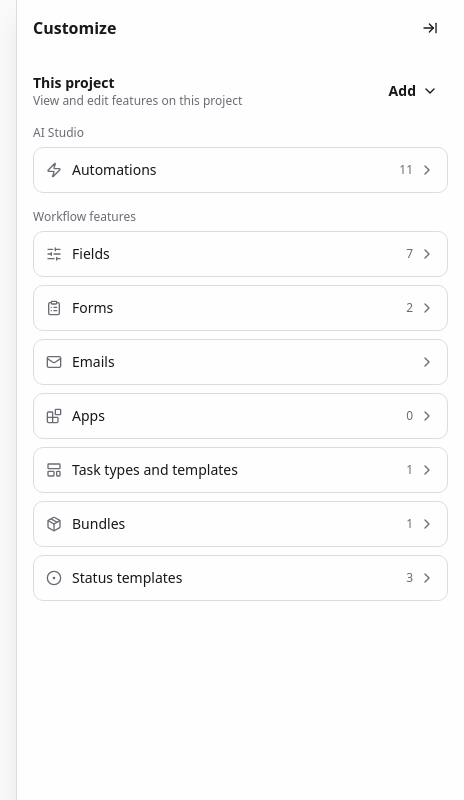
it: CustomizePanel › opens the Automations section listing every rule
Click the button "Automations 11" at (114,170), box 33,147 -> 448,193
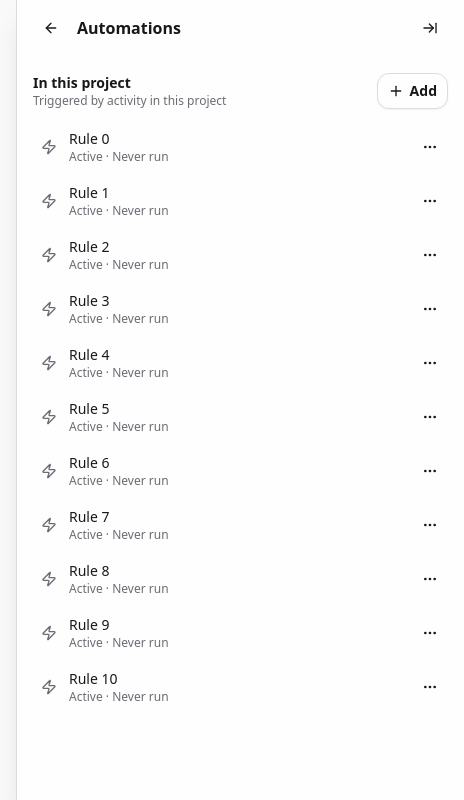
Expected: the heading "Automations" is shown, 77,16 -> 181,40
Expected: the heading "In this project" is shown, 33,73 -> 131,92
Expected: the text "Rule 0" is shown, 69,129 -> 110,148
